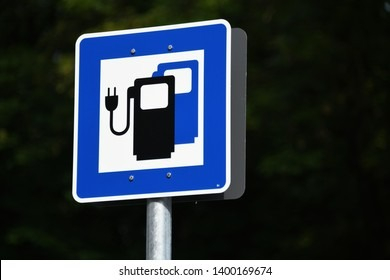fuel-station: (76, 22, 226, 197)
